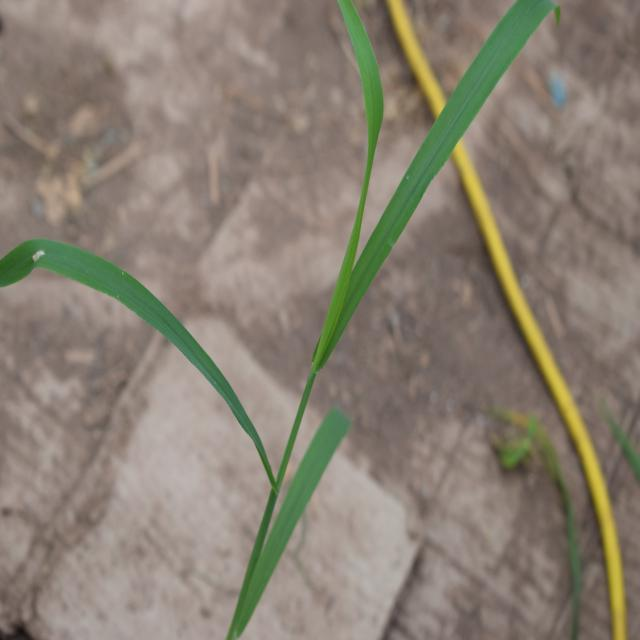crabgrass: (9, 1, 514, 465)
